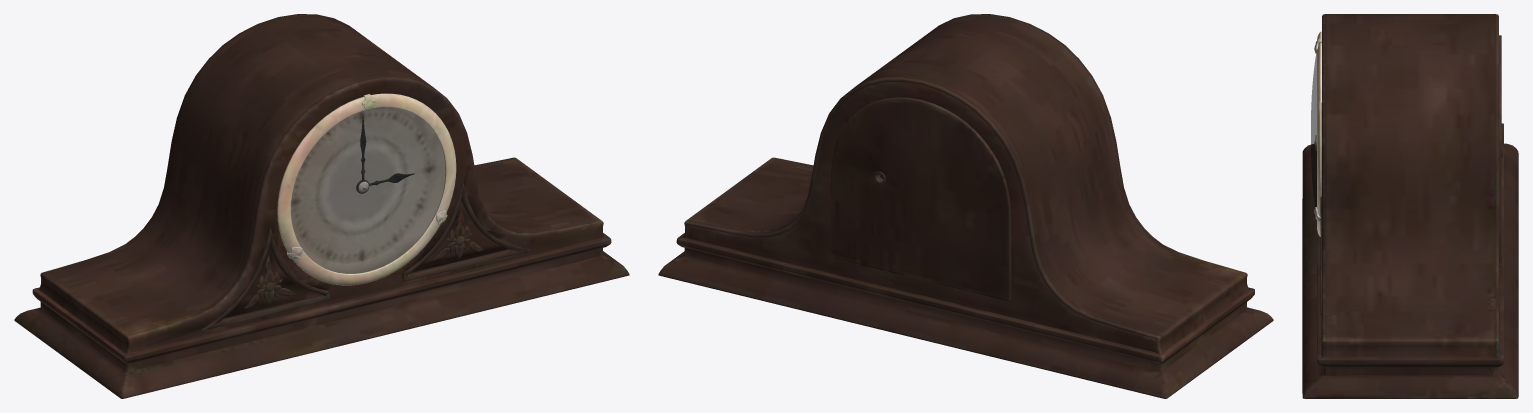
Rendered from mantel_clock_01.glb.
The picture shows the model from 3 angles, left to right: view 1: azimuth 30°, elevation 25°; view 2: azimuth 150°, elevation 25°; view 3: azimuth 270°, elevation 25°; orthographic projection.
Visible parts, largest first — view 1: mantel_clock_01, mantel_clock_01_glass; view 2: mantel_clock_01; view 3: mantel_clock_01, mantel_clock_01_glass.
Boxes of the visible parts, bbox=[...] form: mantel_clock_01: bbox=[14, 14, 629, 398]; mantel_clock_01_glass: bbox=[291, 107, 445, 273]; mantel_clock_01: bbox=[658, 14, 1273, 398]; mantel_clock_01: bbox=[1302, 14, 1518, 398]; mantel_clock_01_glass: bbox=[1311, 53, 1316, 207].
Size of the model in its own units: 0.3423 by 0.1605 by 0.1262.
Materials: 2 (2 with a texture image).
